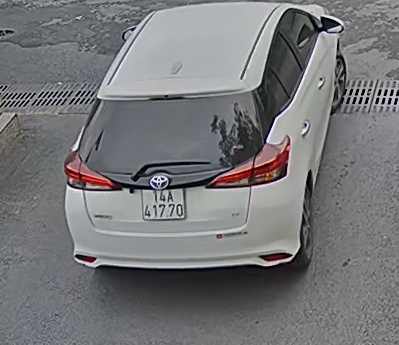vehicle plate: (137, 181, 186, 221)
